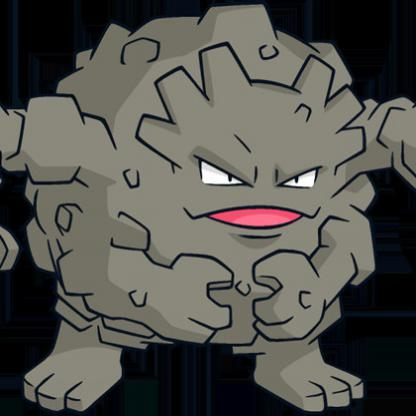Graveler: (1, 1, 416, 416)
